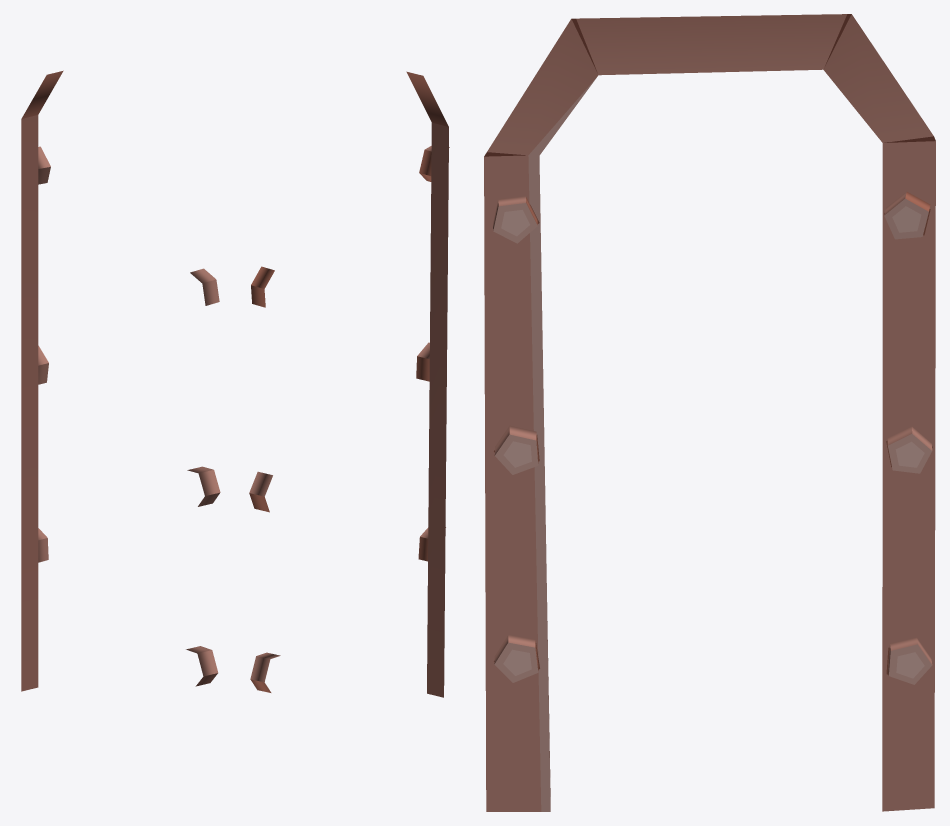
Rendered from BeamWallFront.glb.
3 renders of one model, left to right at view 1: azimuth 30°, elevation 25°; view 2: azimuth 150°, elevation 25°; view 3: azimuth 270°, elevation 25°, orthographic. The views are drawn at different scales.
Visible parts, largest first — view 1: BeamWallFront; view 2: BeamWallFront; view 3: BeamWallFront.
Part boxes in pixels (bbox=[...]): BeamWallFront: bbox=[21, 70, 220, 691]; BeamWallFront: bbox=[249, 71, 449, 697]; BeamWallFront: bbox=[484, 14, 935, 811].
Bounding box in the file's own units: 0.1232 × 2.42 × 1.24.
